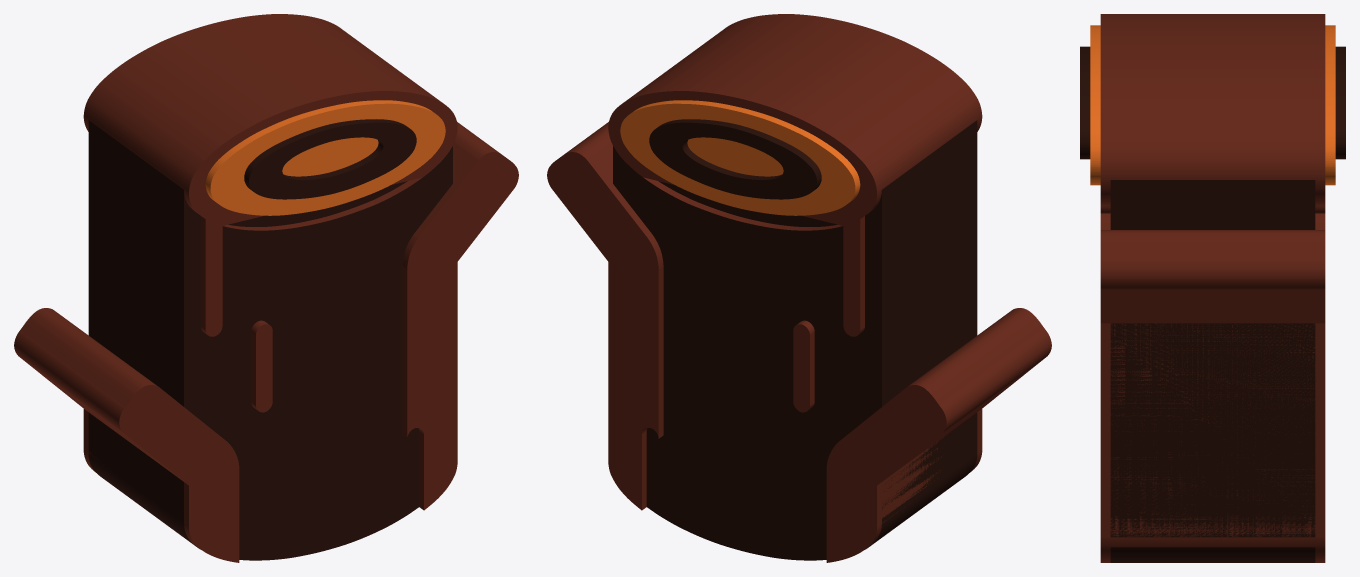
Rendered from U+1FAB5.obj.
3 views of the same model, side by side, from view 1: azimuth 30°, elevation 25°; view 2: azimuth 150°, elevation 25°; view 3: azimuth 270°, elevation 25° (orthographic). The views are drawn at different scales.
Visible parts, largest first — view 1: U+1FAB5_layer00_obj00, U+1FAB5_layer01_obj00, U+1FAB5_layer02_obj00, U+1FAB5_layer03_obj00; view 2: U+1FAB5_layer00_obj00, U+1FAB5_layer01_obj00, U+1FAB5_layer02_obj00, U+1FAB5_layer03_obj00; view 3: U+1FAB5_layer01_obj00, U+1FAB5_layer00_obj00, U+1FAB5_layer02_obj00, U+1FAB5_layer03_obj00.
Boxes of the visible parts, <box> form: U+1FAB5_layer00_obj00: <box>88,120,452,560</box>; U+1FAB5_layer01_obj00: <box>14,14,518,562</box>; U+1FAB5_layer02_obj00: <box>205,100,445,215</box>; U+1FAB5_layer03_obj00: <box>244,119,416,199</box>; U+1FAB5_layer00_obj00: <box>613,120,977,560</box>; U+1FAB5_layer01_obj00: <box>547,14,1051,562</box>; U+1FAB5_layer02_obj00: <box>620,100,860,215</box>; U+1FAB5_layer03_obj00: <box>649,119,821,199</box>; U+1FAB5_layer01_obj00: <box>1100,14,1325,562</box>; U+1FAB5_layer00_obj00: <box>1110,180,1315,562</box>; U+1FAB5_layer02_obj00: <box>1090,25,1335,185</box>; U+1FAB5_layer03_obj00: <box>1080,46,1345,159</box>.
Bounding box in the file's own units: 0.4826 × 0.5271 × 0.26.
